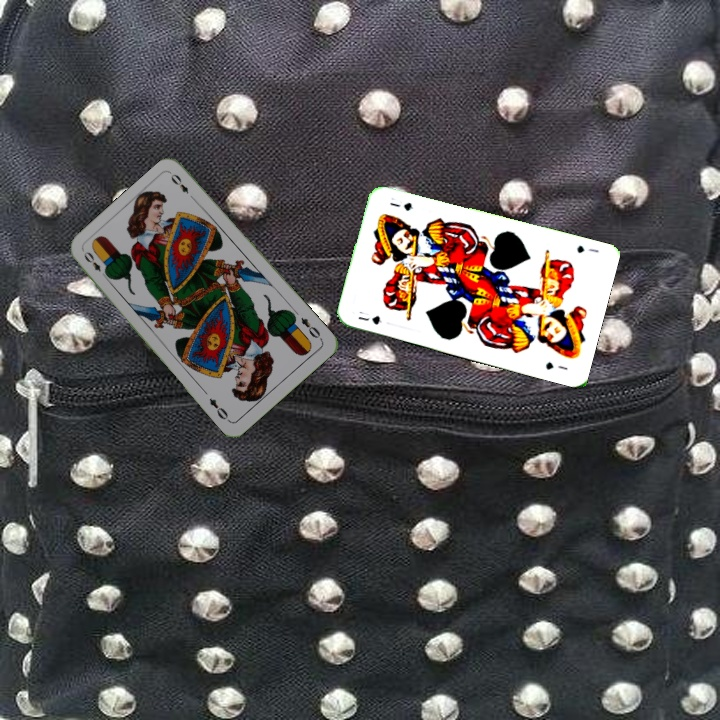EO: (80, 247, 110, 281), (297, 313, 325, 343)
GU: (354, 312, 384, 327), (573, 241, 601, 256)
